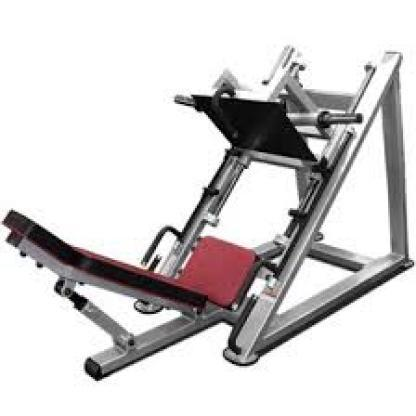leg press: (2, 35, 416, 416)
